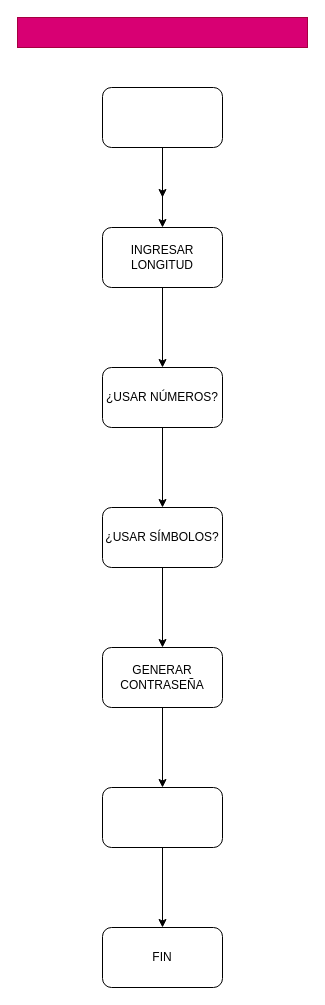
Image size: 325x1005. Some labels were removed from this diagram. The centre of each missing label's shape, as x and y in pixels:
"DIAGRAMA DE FLUJO GENERADOR SEGURO DE CONTRASEÑAS" belongs at point (162, 32).
"INICIO" belongs at point (162, 117).
"MOSTRAR CONTRASEÑA" belongs at point (162, 817).
